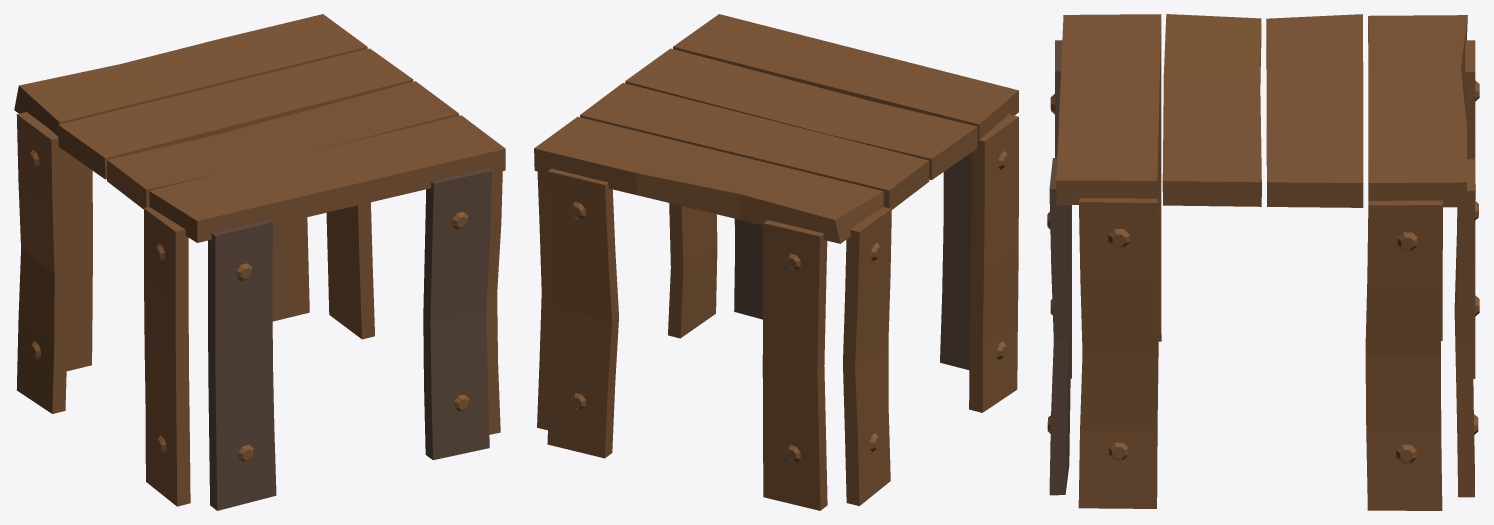
File: BoxDecoration2.fbx
The picture shows the model from 3 angles, left to right: view 1: azimuth 30°, elevation 25°; view 2: azimuth 150°, elevation 25°; view 3: azimuth 270°, elevation 25°; orthographic projection. The views are drawn at different scales.
Visible parts, largest first — view 1: pasted__pasted__polySurface29; view 2: pasted__pasted__polySurface29; view 3: pasted__pasted__polySurface29.
Part boxes in pixels (x1,y1,x2,y2): pasted__pasted__polySurface29: (14,14,505,510); pasted__pasted__polySurface29: (534,14,1018,510); pasted__pasted__polySurface29: (1047,14,1479,510).
Size of the model in its own units: 0.6418 by 0.543 by 0.6515.
